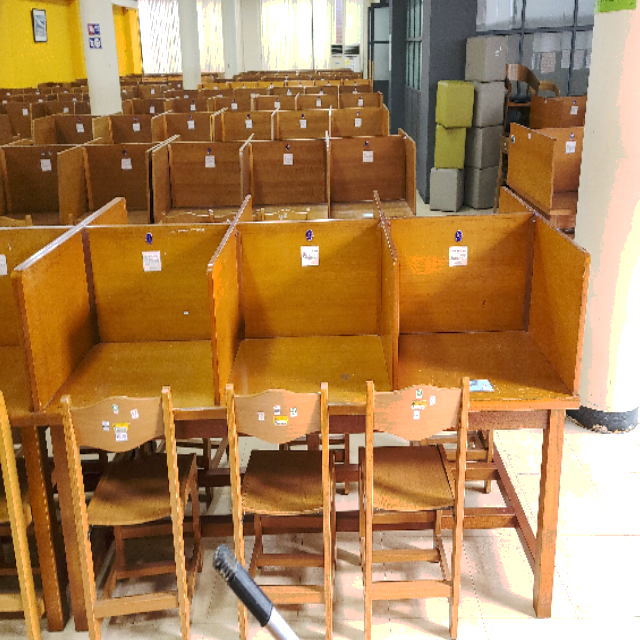empty: (23, 227, 218, 491), (405, 210, 584, 486), (229, 209, 401, 477)
